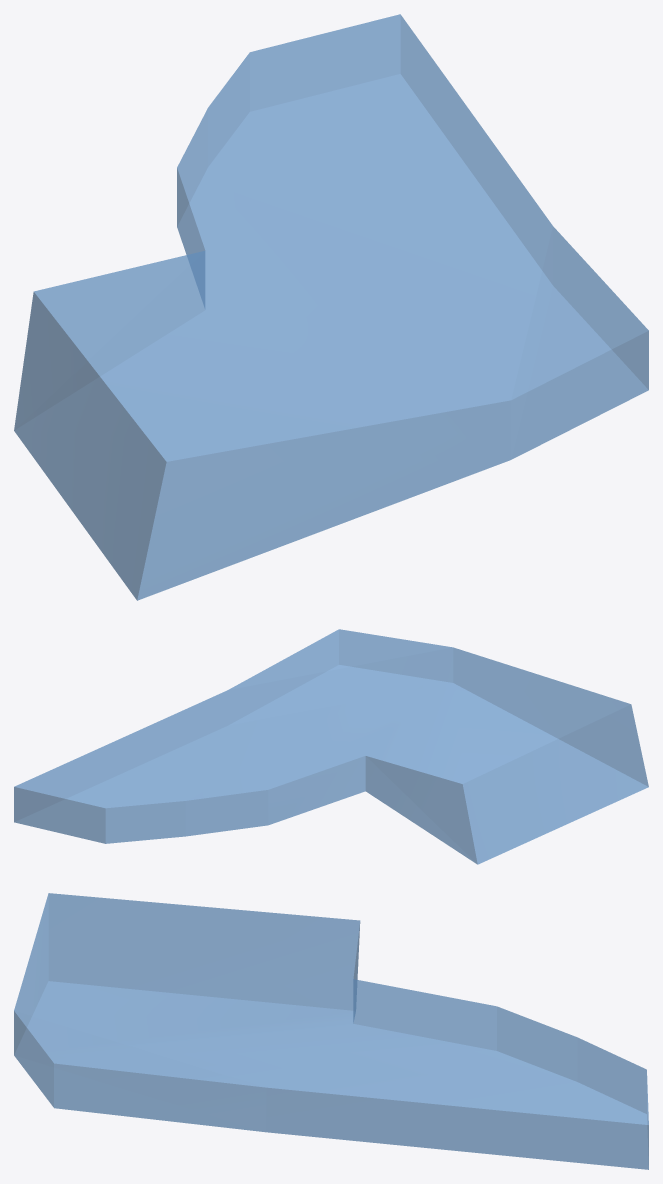
Rendered from IceBridgeP02.FBX.
The picture shows the model from 3 angles, top to bottom: view 1: azimuth 30°, elevation 25°; view 2: azimuth 150°, elevation 25°; view 3: azimuth 270°, elevation 25°; orthographic projection. The views are drawn at different scales.
Visible parts, largest first — view 1: IceBridgeP002; view 2: IceBridgeP002; view 3: IceBridgeP002.
Boxes of the visible parts, x1,y1,x2,y2 form: IceBridgeP002: [14, 14, 648, 600]; IceBridgeP002: [14, 629, 648, 864]; IceBridgeP002: [14, 893, 648, 1169].
Size of the model in its own units: 93.17 by 19 by 103.
